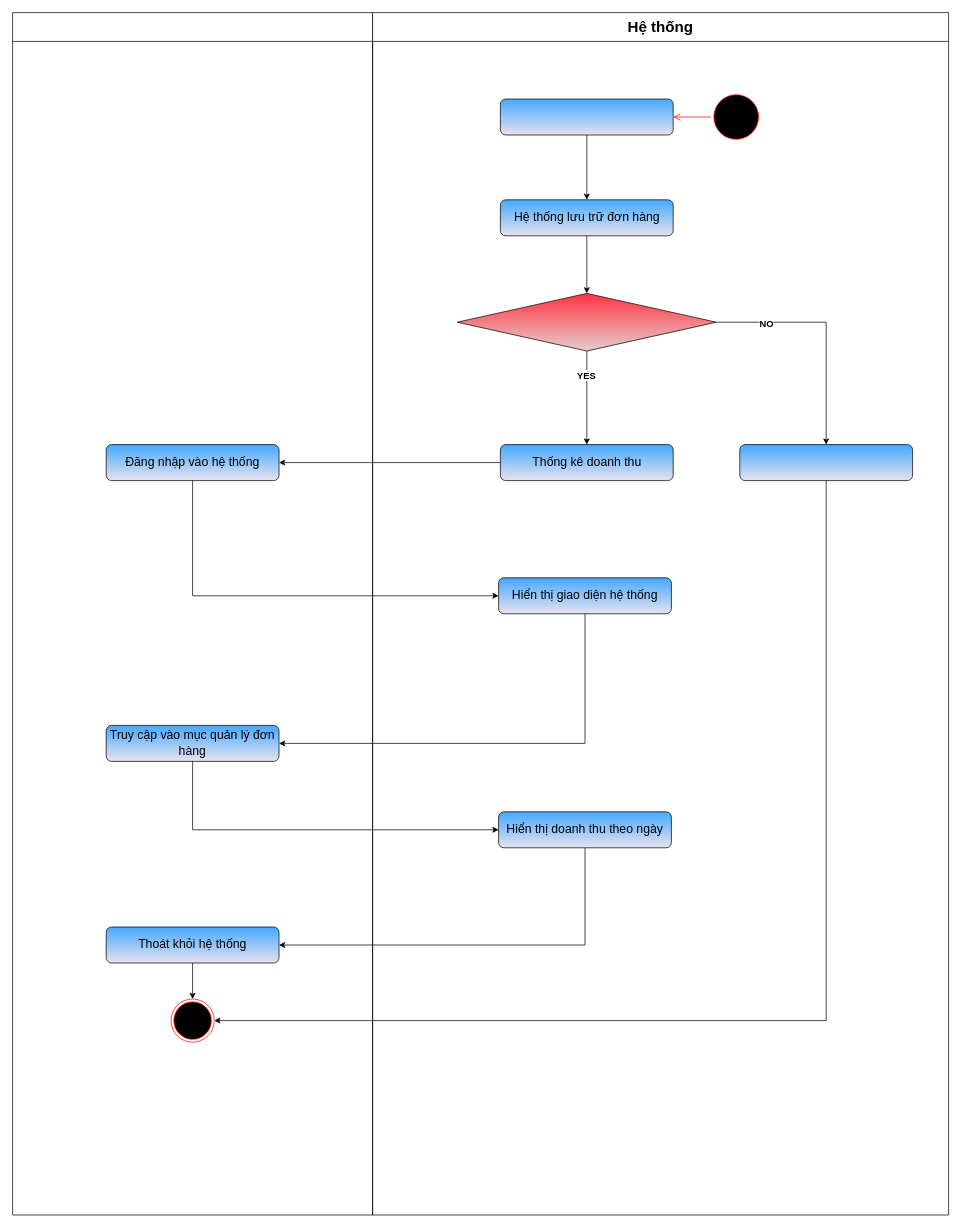
The diagram is 961 pixels wide and 1228 high, and some of its shapes have lost their labels. Each missing label, with the box of its shape:
Khách hàng: (12, 12, 373, 1215)
Thông báo lỗi: (739, 444, 913, 481)
Đơn hàng lưu trữ thành công: (456, 293, 716, 351)
Đơn hàng được hoàn thành: (500, 98, 673, 135)
